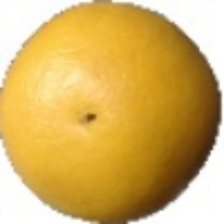grapes: (10, 28, 192, 220)
